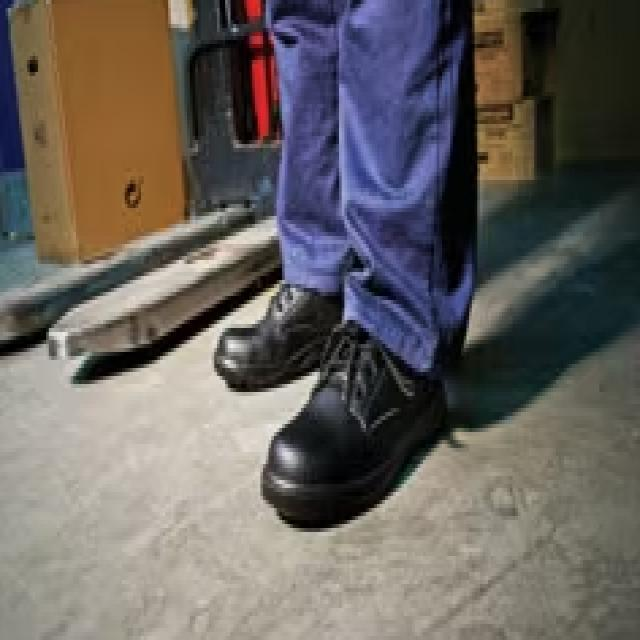hard_hat: (210, 241, 460, 533)
